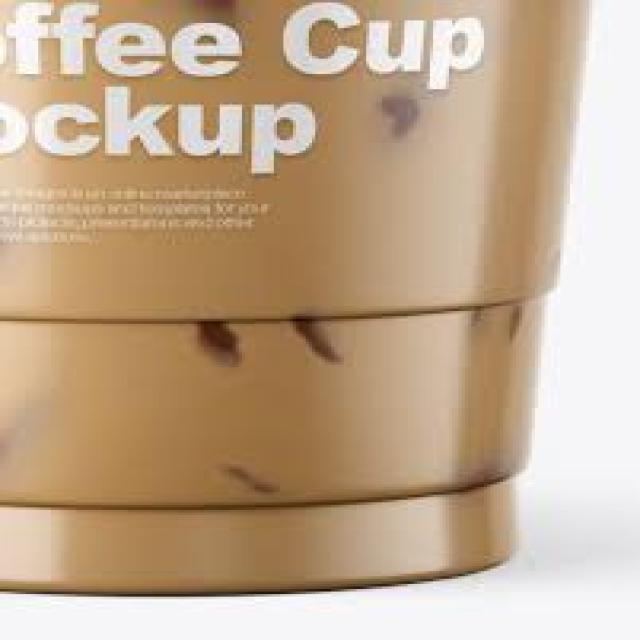bottle: (2, 0, 585, 593)
